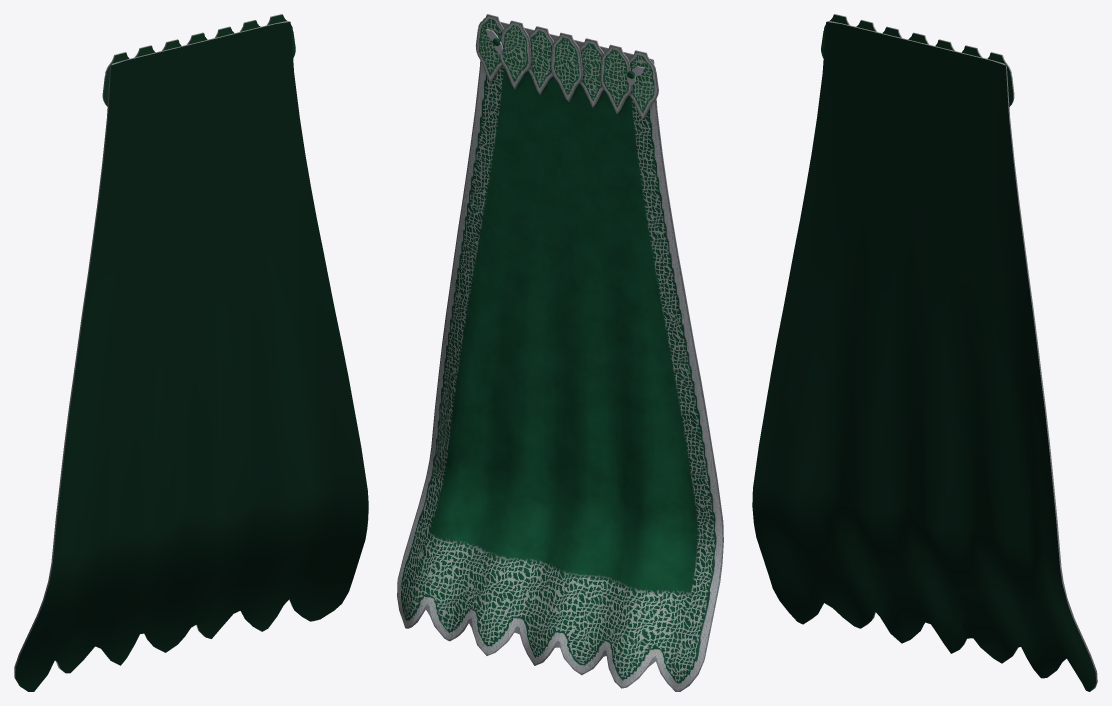
File: cape_emerald.glb
3 views of the same model, side by side, from view 1: azimuth 30°, elevation 25°; view 2: azimuth 150°, elevation 25°; view 3: azimuth 330°, elevation 25° (orthographic). The views are drawn at different scales.
Parts seen in each view (by area): view 1: cape; view 2: cape; view 3: cape.
Boxes of the visible parts, box(x1,y1,x2,y2) form: cape: box(14, 14, 368, 691); cape: box(397, 14, 723, 691); cape: box(752, 14, 1097, 691).
Size of the model in its own units: 0.5471 by 1.02 by 0.144.
Materials: 1 (1 with a texture image).
